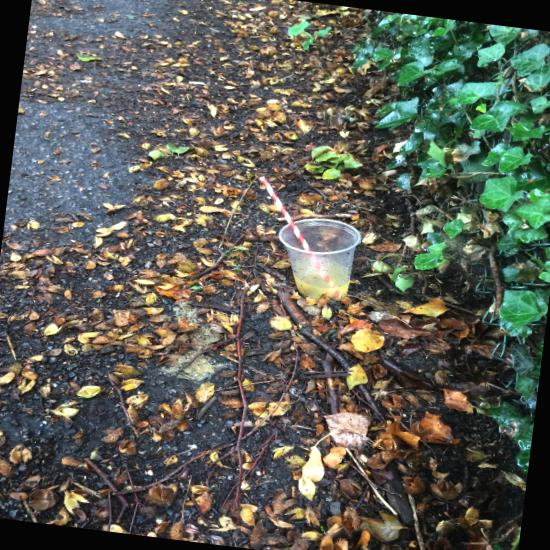Disposable plastic cup: (279, 219, 361, 300)
Paper straw: (259, 176, 313, 251)
